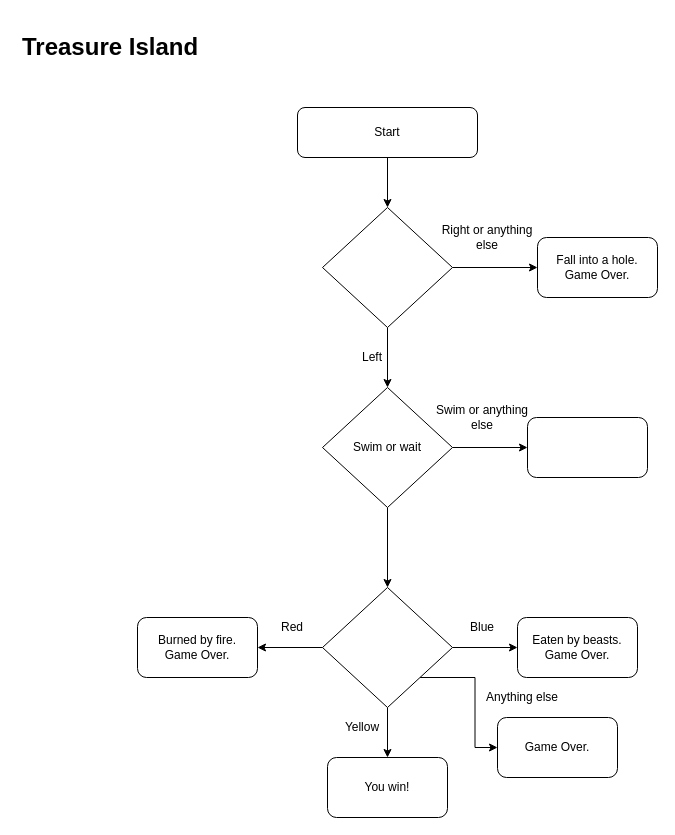
The diagram is 675 pixels wide and 835 high, and some of its shapes have lost their labels. Each missing label, with the centre of its shape:
"Eaten by a shark. Game Over." goes at (x=587, y=447).
"left or right" goes at (x=387, y=267).
"Which door?" goes at (x=387, y=647).
